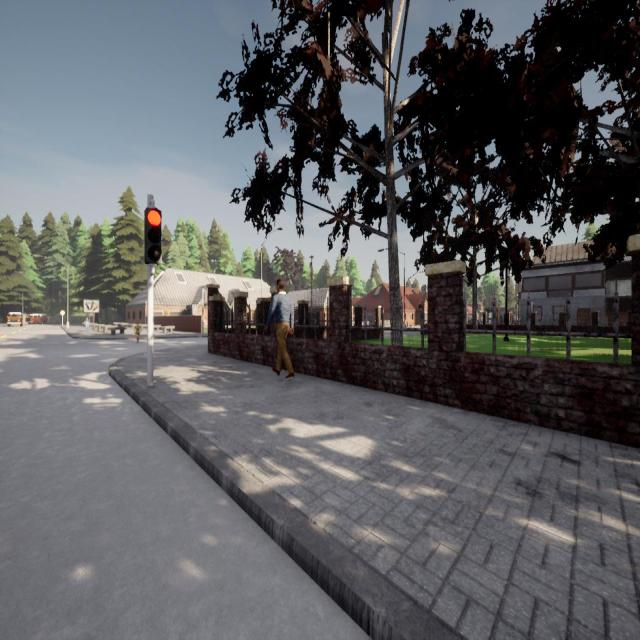Pedestrian: (264, 279, 294, 378), (134, 321, 141, 344), (84, 316, 90, 332)
Traffic_Signs: (60, 310, 66, 316)
Vehicle: (6, 312, 23, 327), (27, 313, 48, 325)
traffic_light: (144, 207, 162, 264), (418, 300, 422, 308)
